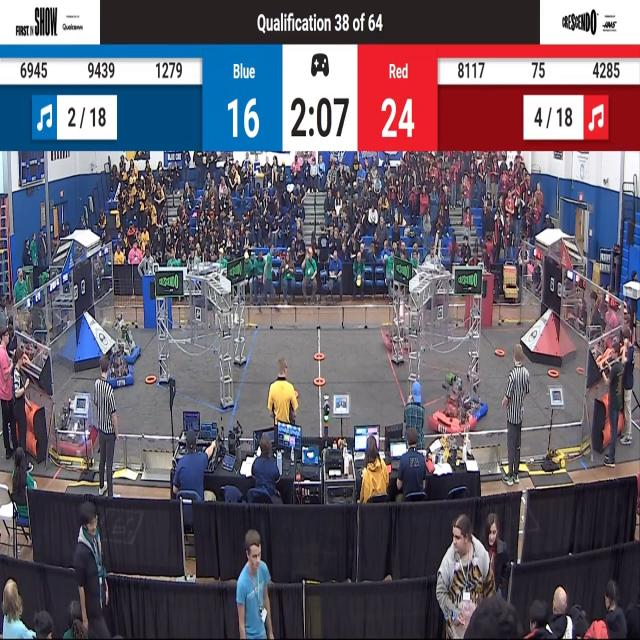Robot: (431, 363, 478, 440), (54, 388, 94, 457), (454, 383, 492, 424), (114, 315, 142, 369), (382, 305, 413, 351), (104, 342, 133, 389)
